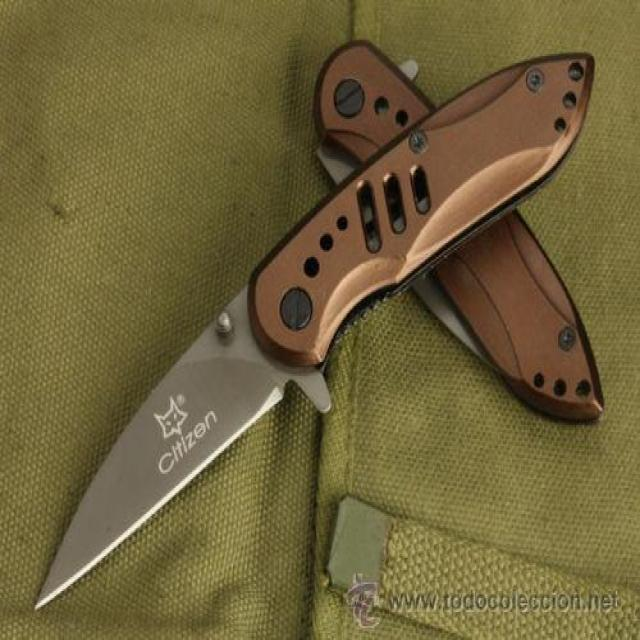knife: (23, 46, 610, 618)
